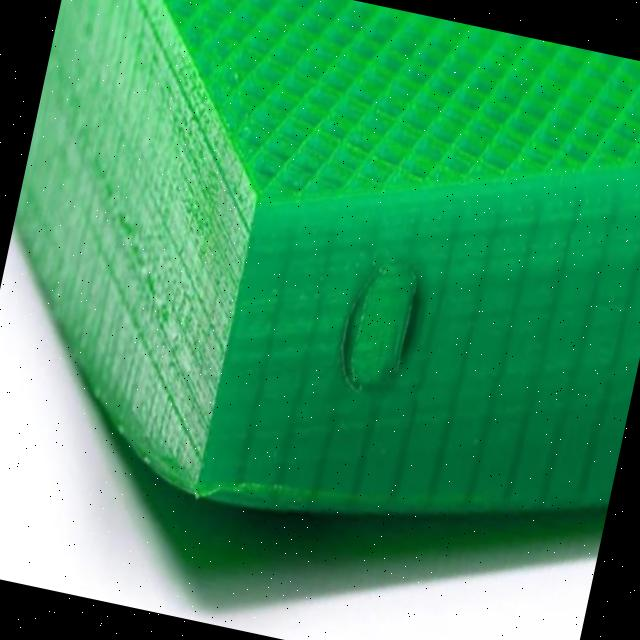cracks: (66, 344, 505, 576)
